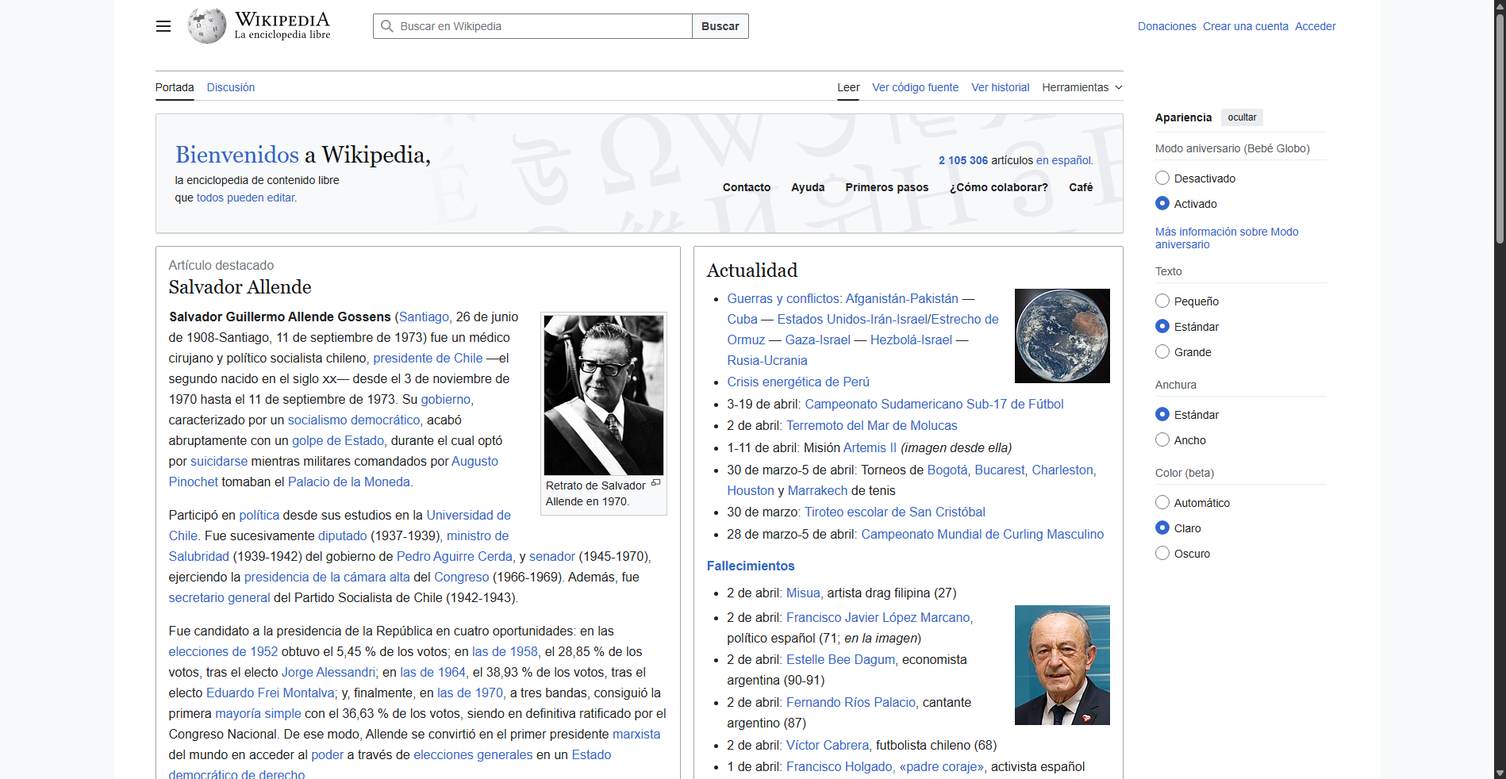general_button: (952, 326, 1099, 348), (939, 176, 1059, 201), (835, 176, 939, 201), (1042, 71, 1123, 99), (162, 71, 273, 89), (952, 131, 1062, 148), (712, 176, 781, 201), (781, 176, 835, 201), (1059, 176, 1103, 201), (1221, 109, 1262, 126), (150, 13, 176, 39)
general_checkbox: (1042, 71, 1123, 98), (150, 13, 176, 39)
general_image: (543, 315, 664, 476), (1014, 605, 1110, 725), (1014, 288, 1110, 383), (187, 6, 227, 46), (234, 12, 330, 26), (234, 30, 330, 40)
general_label: (1155, 169, 1326, 190), (1155, 292, 1326, 313), (1155, 343, 1326, 364), (1155, 431, 1326, 452), (1155, 519, 1326, 540), (1155, 195, 1326, 215), (1155, 318, 1326, 338), (1155, 406, 1326, 426), (1155, 494, 1326, 514), (1155, 545, 1326, 565)
general_link: (541, 313, 666, 478), (169, 748, 611, 779), (169, 509, 511, 543), (169, 529, 509, 563), (169, 455, 498, 489), (727, 312, 999, 346), (1155, 220, 1326, 255), (187, 6, 330, 46), (805, 397, 1064, 411), (861, 527, 1104, 541), (162, 145, 309, 168), (162, 215, 309, 238), (952, 209, 1099, 232), (952, 279, 1099, 302), (952, 427, 1099, 450), (952, 505, 1099, 528), (952, 575, 1099, 598), (952, 645, 1099, 668), (162, 99, 309, 121), (162, 122, 309, 144), (162, 169, 309, 191), (162, 192, 309, 214), (162, 239, 309, 261), (162, 262, 309, 284), (952, 186, 1099, 208), (952, 233, 1099, 255), (952, 256, 1099, 278), (952, 303, 1099, 325), (952, 381, 1099, 403), (952, 404, 1099, 426), (952, 482, 1099, 504), (952, 529, 1099, 551), (952, 552, 1099, 574), (952, 599, 1099, 621), (952, 622, 1099, 644), (952, 669, 1099, 691), (952, 692, 1099, 714), (952, 715, 1099, 737), (952, 739, 1099, 761), (169, 276, 311, 298), (175, 142, 299, 167), (786, 760, 984, 774), (872, 71, 959, 101), (804, 505, 985, 519), (952, 762, 1099, 779), (786, 419, 958, 433), (786, 611, 970, 624), (244, 570, 410, 584), (777, 312, 927, 326), (727, 375, 870, 389), (707, 259, 798, 280), (288, 413, 420, 427), (206, 686, 334, 700), (971, 71, 1029, 101), (288, 475, 410, 489), (786, 696, 915, 709), (414, 748, 533, 762), (939, 181, 1059, 194), (169, 645, 278, 659), (786, 653, 895, 667), (397, 550, 512, 563), (846, 292, 959, 305), (727, 292, 839, 305), (207, 71, 255, 101), (373, 352, 483, 365), (169, 591, 270, 605), (835, 181, 939, 194), (1014, 657, 1110, 671), (292, 434, 384, 448), (197, 191, 294, 204), (1014, 328, 1110, 341), (707, 559, 795, 573), (282, 666, 375, 679), (155, 71, 194, 101), (786, 738, 869, 752), (727, 353, 807, 367), (1203, 20, 1289, 33), (215, 707, 301, 720), (870, 333, 952, 346), (472, 645, 538, 659), (437, 686, 503, 700), (712, 181, 781, 194), (400, 666, 466, 679), (785, 333, 851, 346), (1032, 463, 1093, 476), (788, 484, 848, 497), (434, 570, 489, 584), (1138, 20, 1197, 33), (190, 455, 248, 468), (781, 181, 835, 194), (843, 441, 897, 454), (399, 310, 449, 324), (837, 71, 860, 101), (318, 529, 367, 543), (1036, 154, 1091, 166), (975, 463, 1025, 476), (421, 393, 470, 406), (612, 728, 660, 741), (727, 484, 774, 497), (529, 550, 575, 563), (939, 154, 988, 166), (1059, 181, 1103, 194), (1295, 20, 1336, 33), (239, 509, 279, 522), (927, 463, 967, 476), (786, 586, 820, 600), (311, 748, 344, 762), (727, 312, 757, 326)
general_radio: (1155, 170, 1171, 186), (1155, 195, 1171, 211), (1155, 293, 1171, 309), (1155, 318, 1171, 334), (1155, 344, 1171, 360), (1155, 406, 1171, 422), (1155, 432, 1171, 448), (1155, 520, 1171, 536), (1155, 545, 1171, 561), (1155, 495, 1171, 510)
icon_menu: (150, 13, 176, 39), (155, 18, 171, 34)
icon_search: (373, 13, 749, 39), (373, 13, 693, 39), (692, 13, 749, 39)
